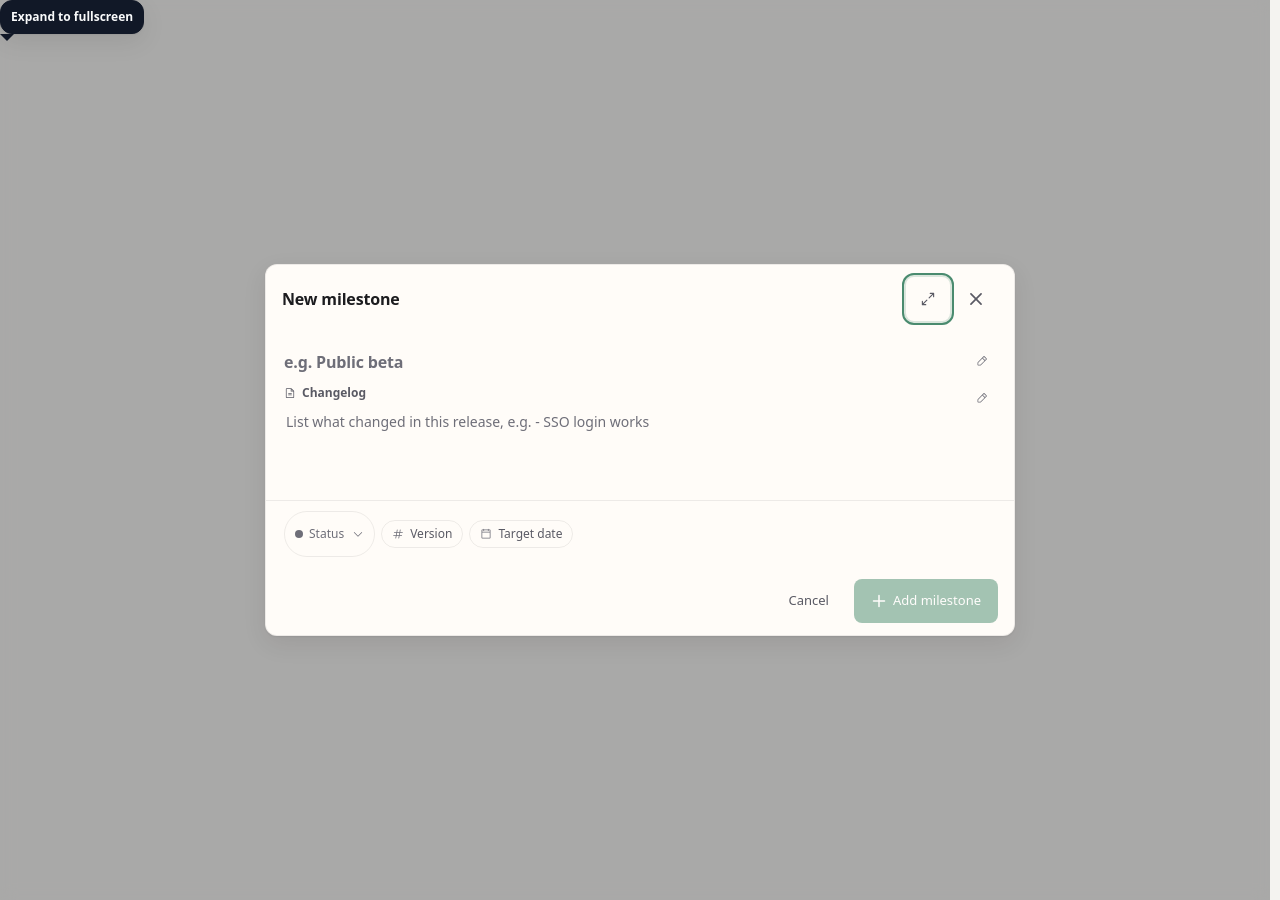
Test: NewMilestoneModal › opens the version popup panel from the pill activator
Click the button "Version" at {"x": 422, "y": 534}, box left=381, top=520, right=463, bottom=548
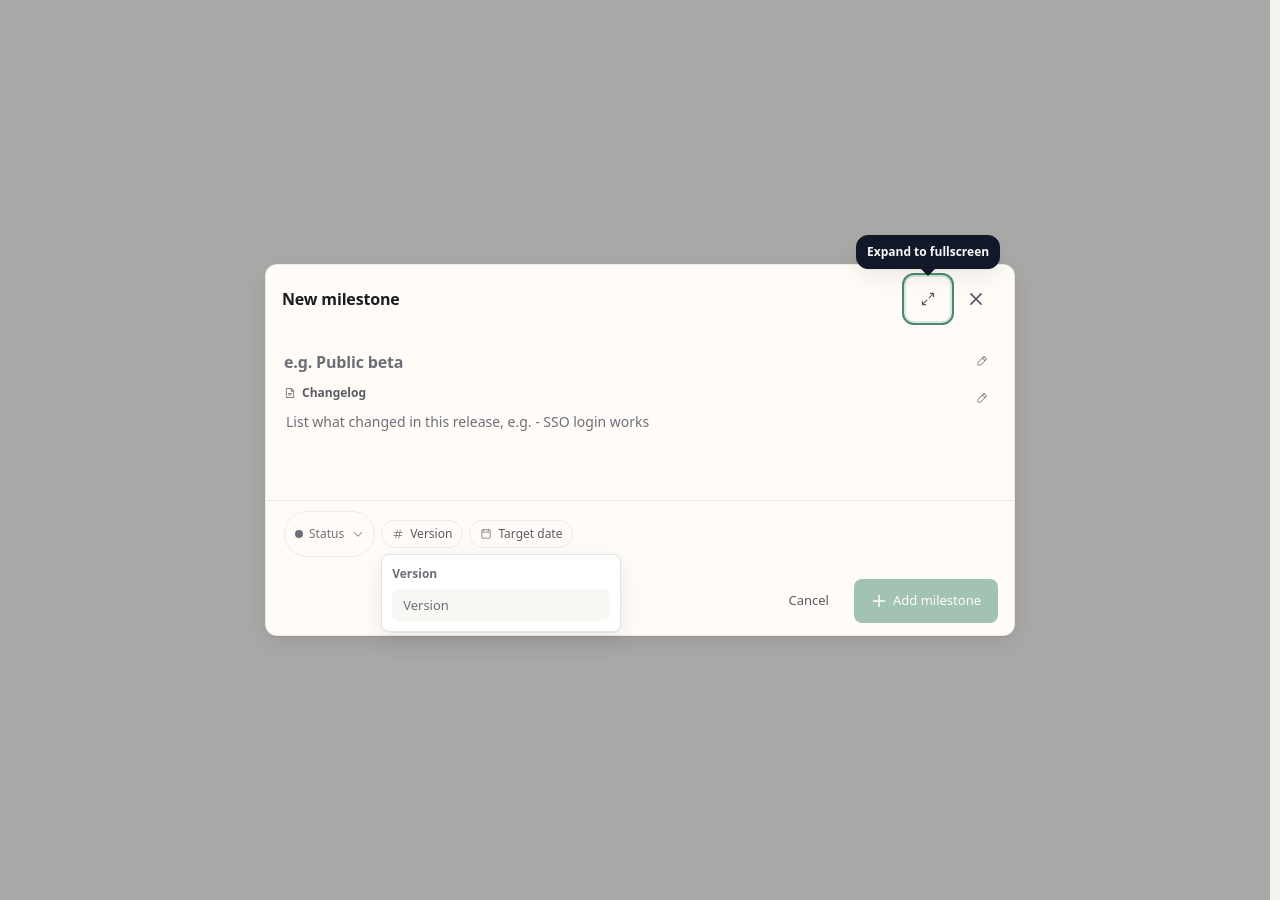
Now the dialog "Version" is shown, box left=381, top=554, right=621, bottom=632
Now the field labelled "Version" is shown, box left=392, top=589, right=610, bottom=621
